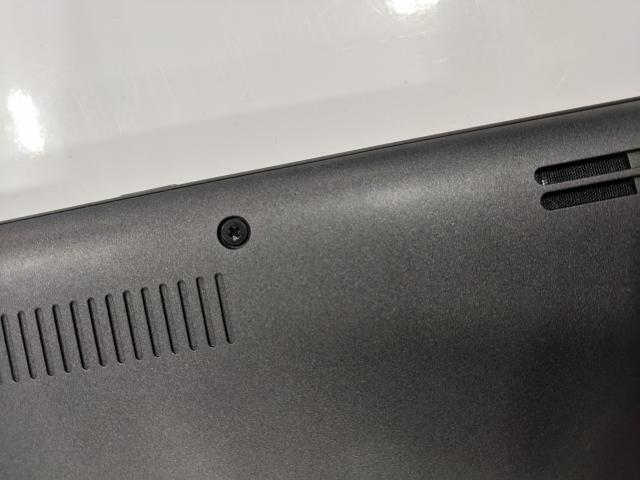CRS: (219, 216, 249, 246)
